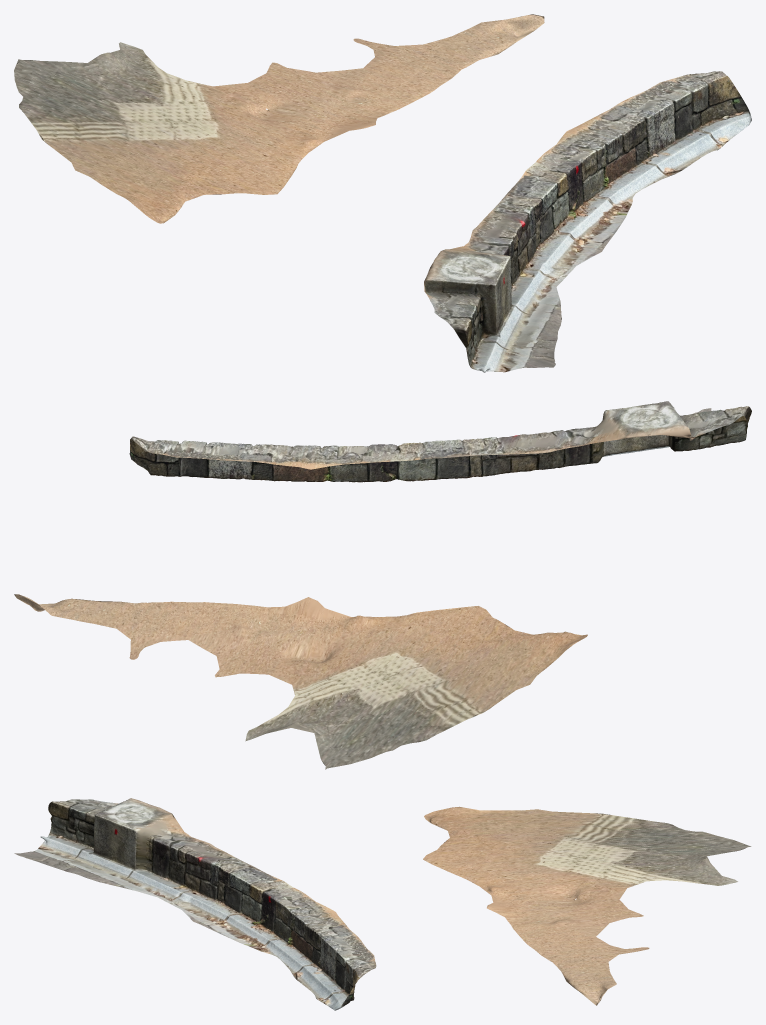
3 renders of one model, top to bottom at view 1: azimuth 30°, elevation 25°; view 2: azimuth 150°, elevation 25°; view 3: azimuth 270°, elevation 25°, orthographic. The views are drawn at different scales.
Parts seen in each view (by area): view 1: baked_mesh_891cf1a0; view 2: baked_mesh_891cf1a0; view 3: baked_mesh_891cf1a0.
Boxes of the visible parts, left/top/right/bottom form: baked_mesh_891cf1a0: left=14, top=14, right=751, bottom=372; baked_mesh_891cf1a0: left=14, top=401, right=751, bottom=769; baked_mesh_891cf1a0: left=14, top=798, right=751, bottom=1010.
Bounding box in the file's own units: 0.6129 × 0.0779 × 0.9134.
1 material, 1 textured.
